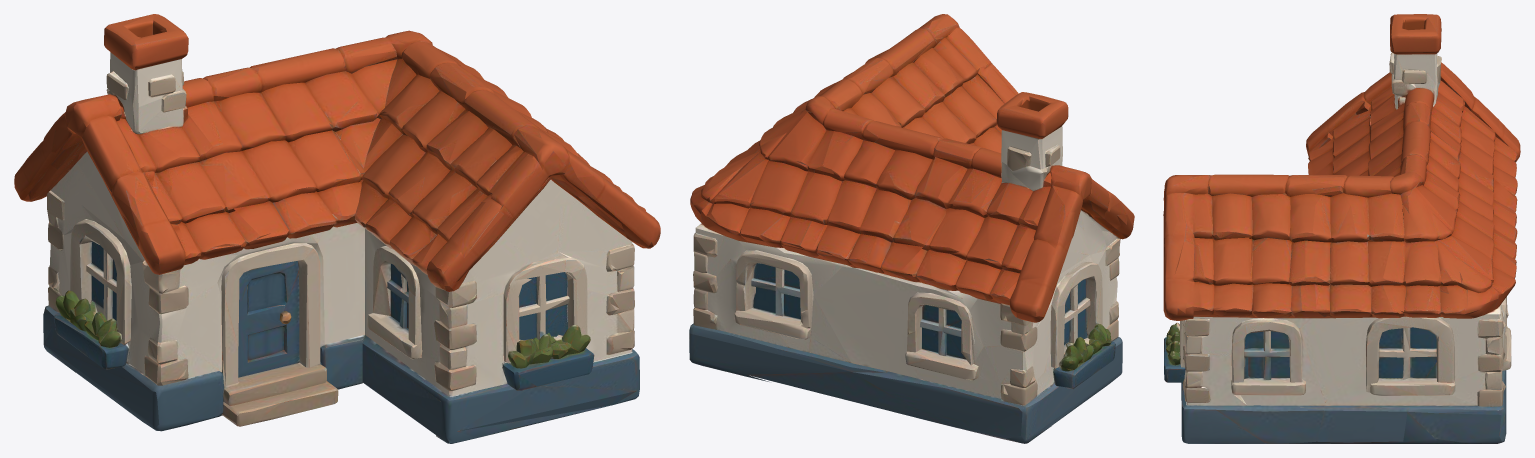
The model's file is cornerHouse.glb.
3 renders of one model, left to right at view 1: azimuth 30°, elevation 25°; view 2: azimuth 150°, elevation 25°; view 3: azimuth 270°, elevation 25°, orthographic. The views are drawn at different scales.
Visible parts, largest first — view 1: Mesh_0; view 2: Mesh_0; view 3: Mesh_0.
Part boxes in pixels (left/top/right/bottom): Mesh_0: left=14, top=14, right=660, bottom=443; Mesh_0: left=689, top=14, right=1134, bottom=443; Mesh_0: left=1163, top=14, right=1520, bottom=443.
Bounding box in the file's own units: 3.2 × 2.41 × 2.75.
1 material, 1 textured.
